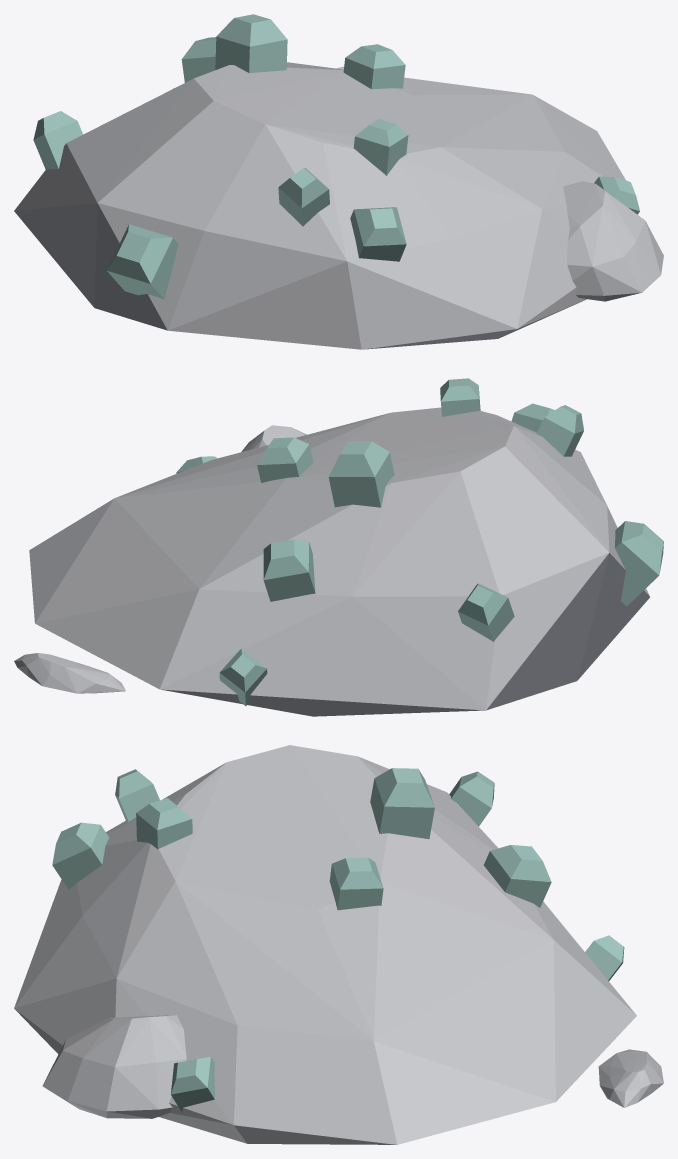
File: SM_MR_Crystal_Large_04.fbx
The picture shows the model from 3 angles, top to bottom: view 1: azimuth 30°, elevation 25°; view 2: azimuth 150°, elevation 25°; view 3: azimuth 270°, elevation 25°; orthographic projection. The views are drawn at different scales.
Visible parts, largest first — view 1: SM_MR_Crystal_Large_04; view 2: SM_MR_Crystal_Large_04; view 3: SM_MR_Crystal_Large_04.
Part boxes in pixels (x1=…): SM_MR_Crystal_Large_04: x1=14, y1=14, x2=663, y2=349; SM_MR_Crystal_Large_04: x1=14, y1=378, x2=663, y2=716; SM_MR_Crystal_Large_04: x1=14, y1=745, x2=663, y2=1144.
Bounding box in the file's own units: 2.65 × 2.54 × 0.9823.
